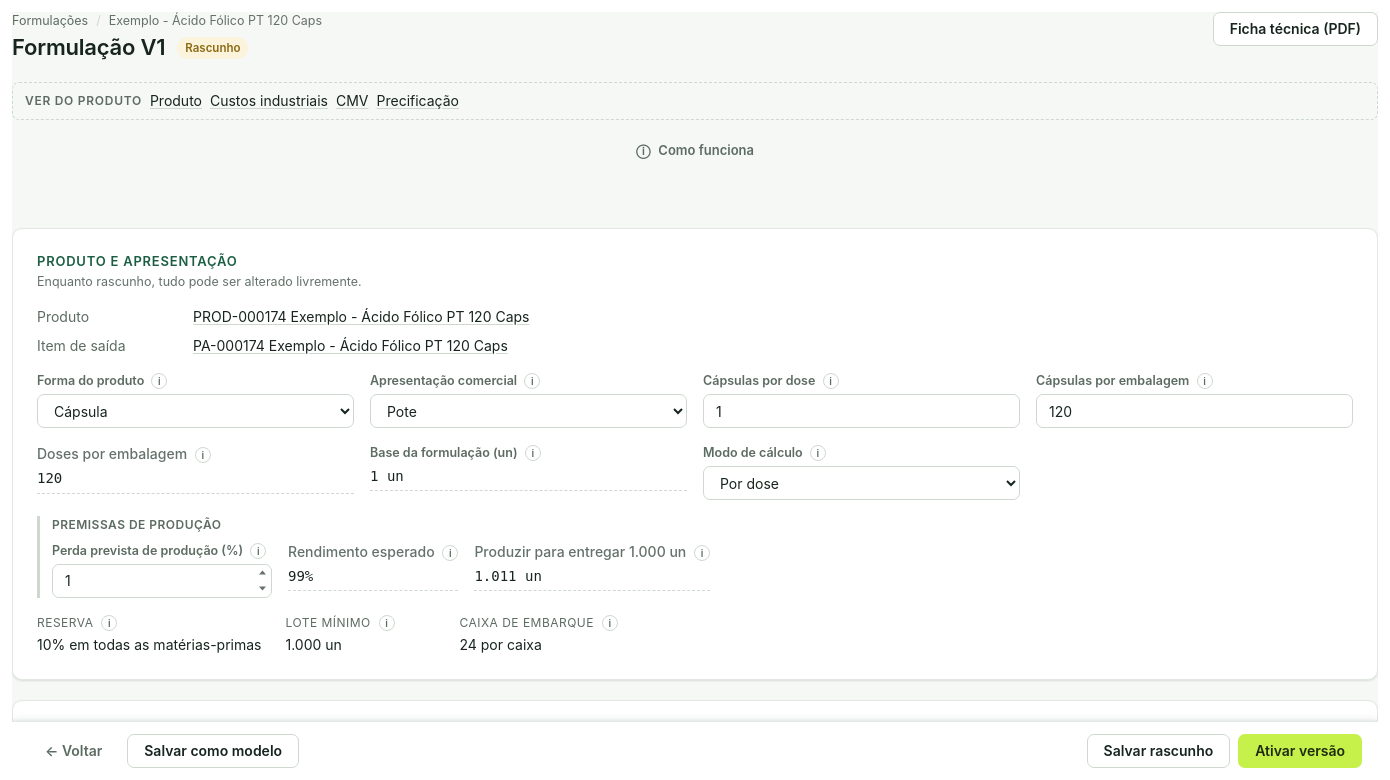
Test: Setas de passo nos percentuais › a perda prevista também tem as setas, e o rendimento acompanha
Expected: the link "PROD-000174 Exemplo - Ácido Fólico PT 120 Caps" is shown, [193, 308, 530, 325]
Click the button named "Aumentar Perda prevista de produção" at point(262, 573), box [253, 565, 271, 581]
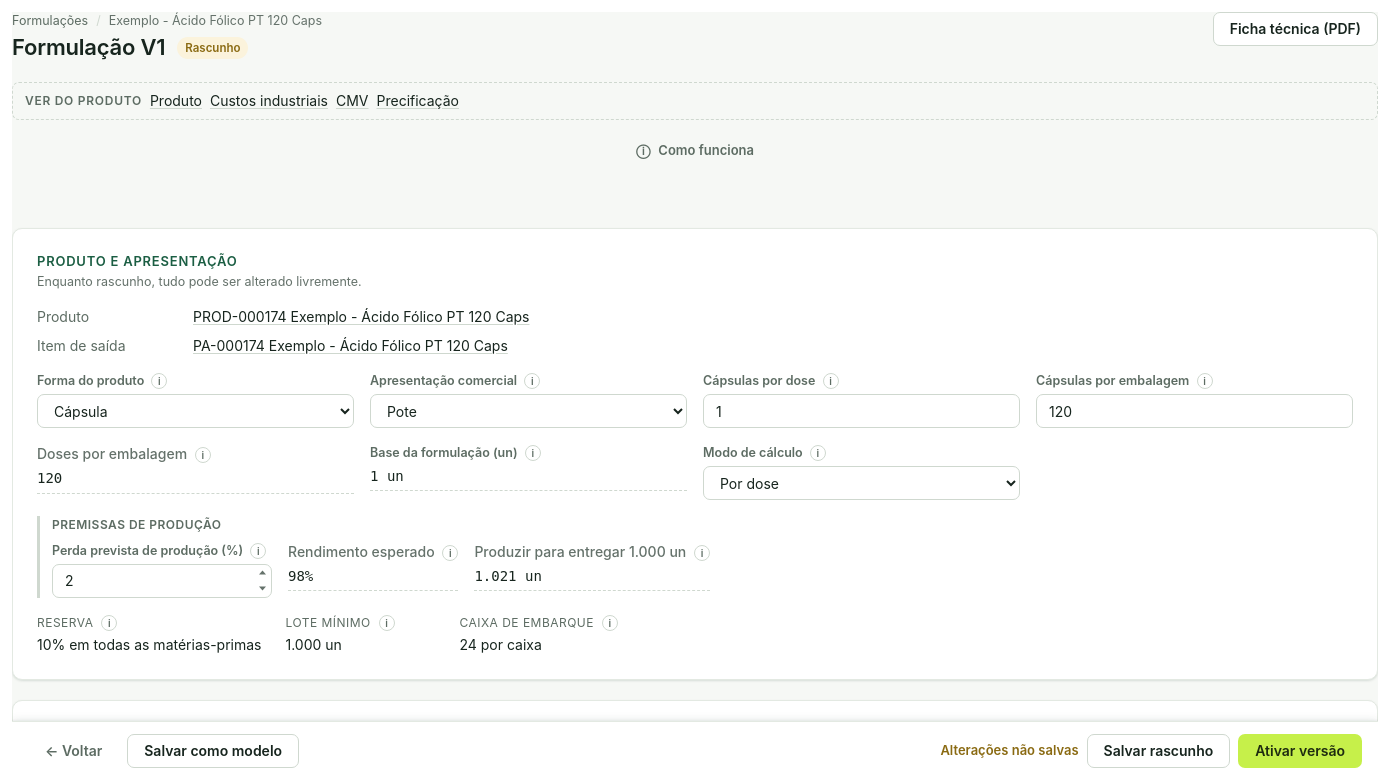
Now the text with test id "rendimento-esperado" reads "98%", box [288, 568, 313, 584]
